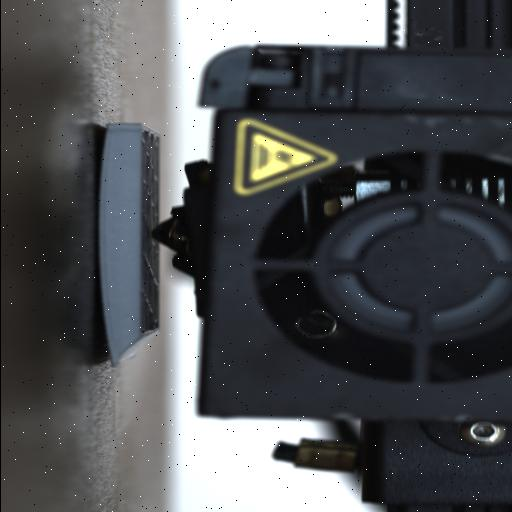warp: (92, 313, 132, 373), (95, 117, 119, 154)
